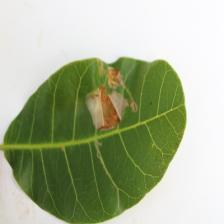leaf miner: (0, 55, 187, 224)
